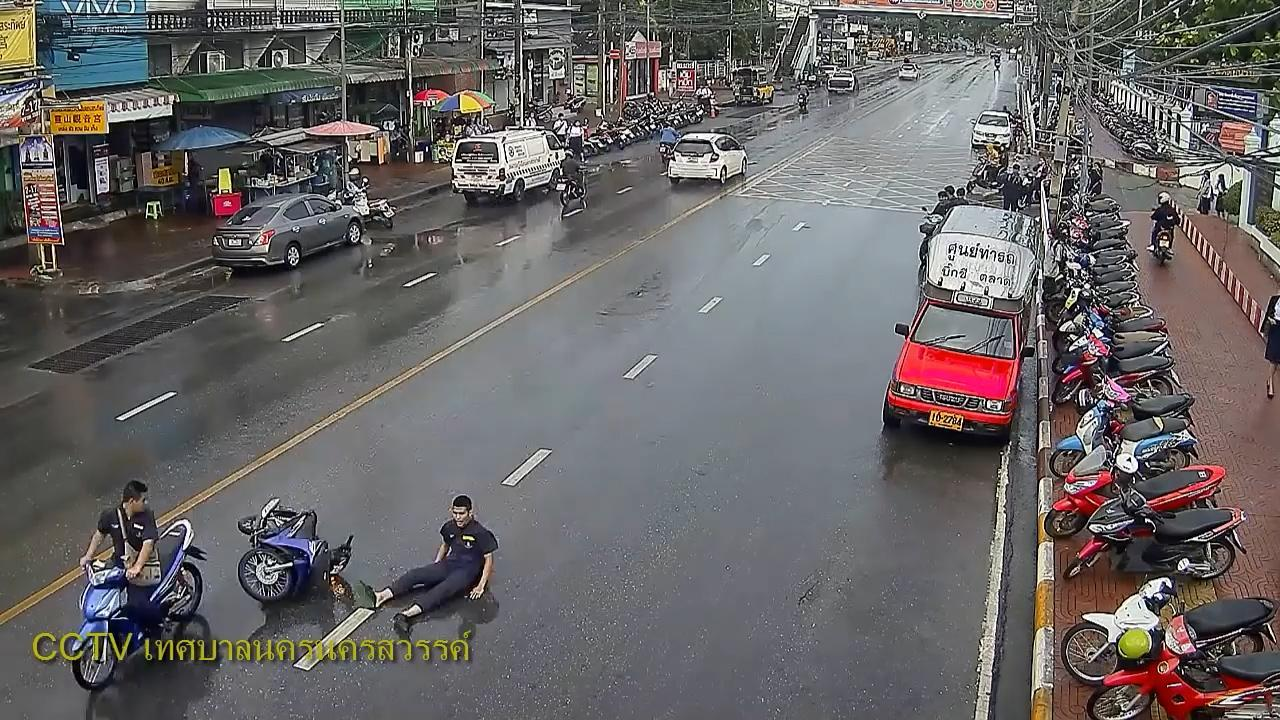accident: (355, 491, 499, 641)
